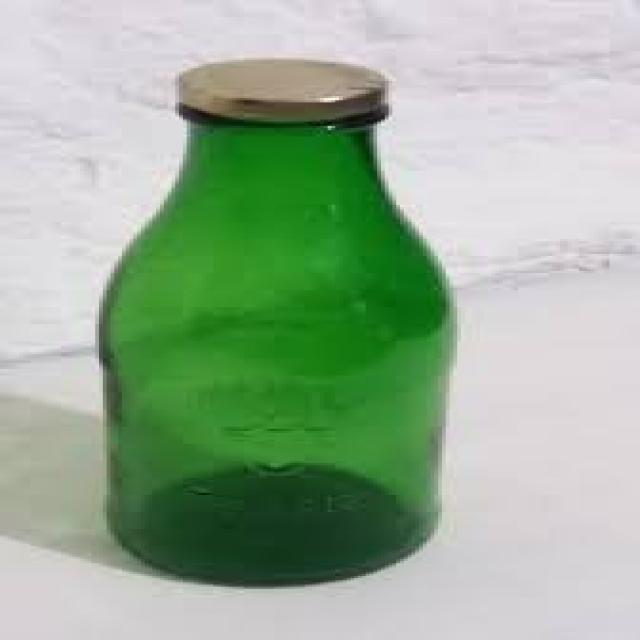glass: (92, 103, 454, 585)
metal: (175, 58, 381, 117)
